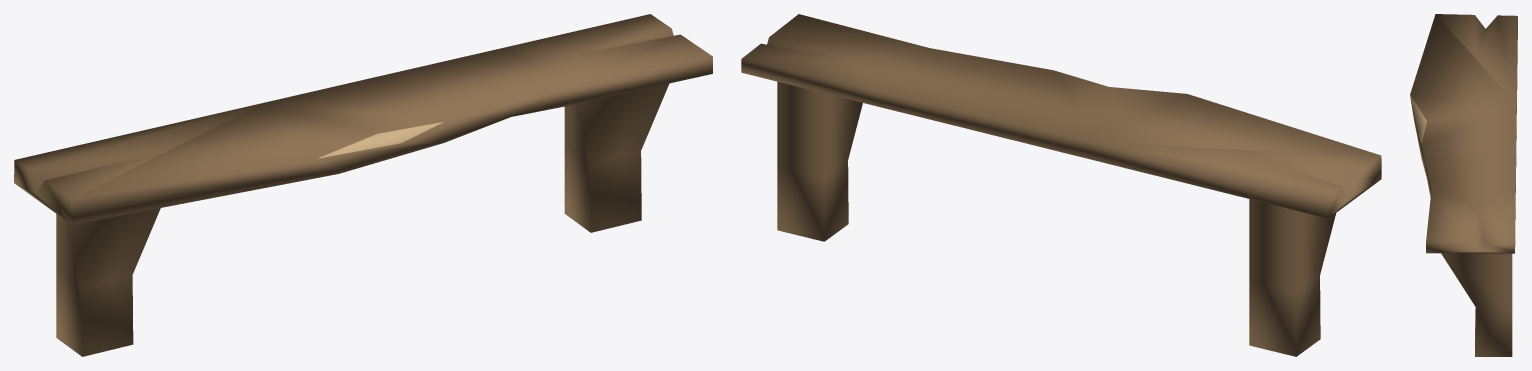
The model's file is rpgpp_ag_shelf_wall_01.fbx.
3 renders of one model, left to right at view 1: azimuth 30°, elevation 25°; view 2: azimuth 150°, elevation 25°; view 3: azimuth 270°, elevation 25°, orthographic. The views are drawn at different scales.
Visible parts, largest first — view 1: rpgpp_ag_shelf_wall_01; view 2: rpgpp_ag_shelf_wall_01; view 3: rpgpp_ag_shelf_wall_01.
Part boxes in pixels (box(x1,y1,x2,y2)): rpgpp_ag_shelf_wall_01: box(14, 14, 712, 356); rpgpp_ag_shelf_wall_01: box(741, 14, 1381, 356); rpgpp_ag_shelf_wall_01: box(1410, 14, 1517, 356).
Size of the model in its own units: 1.37 by 0.3861 by 0.2816.
